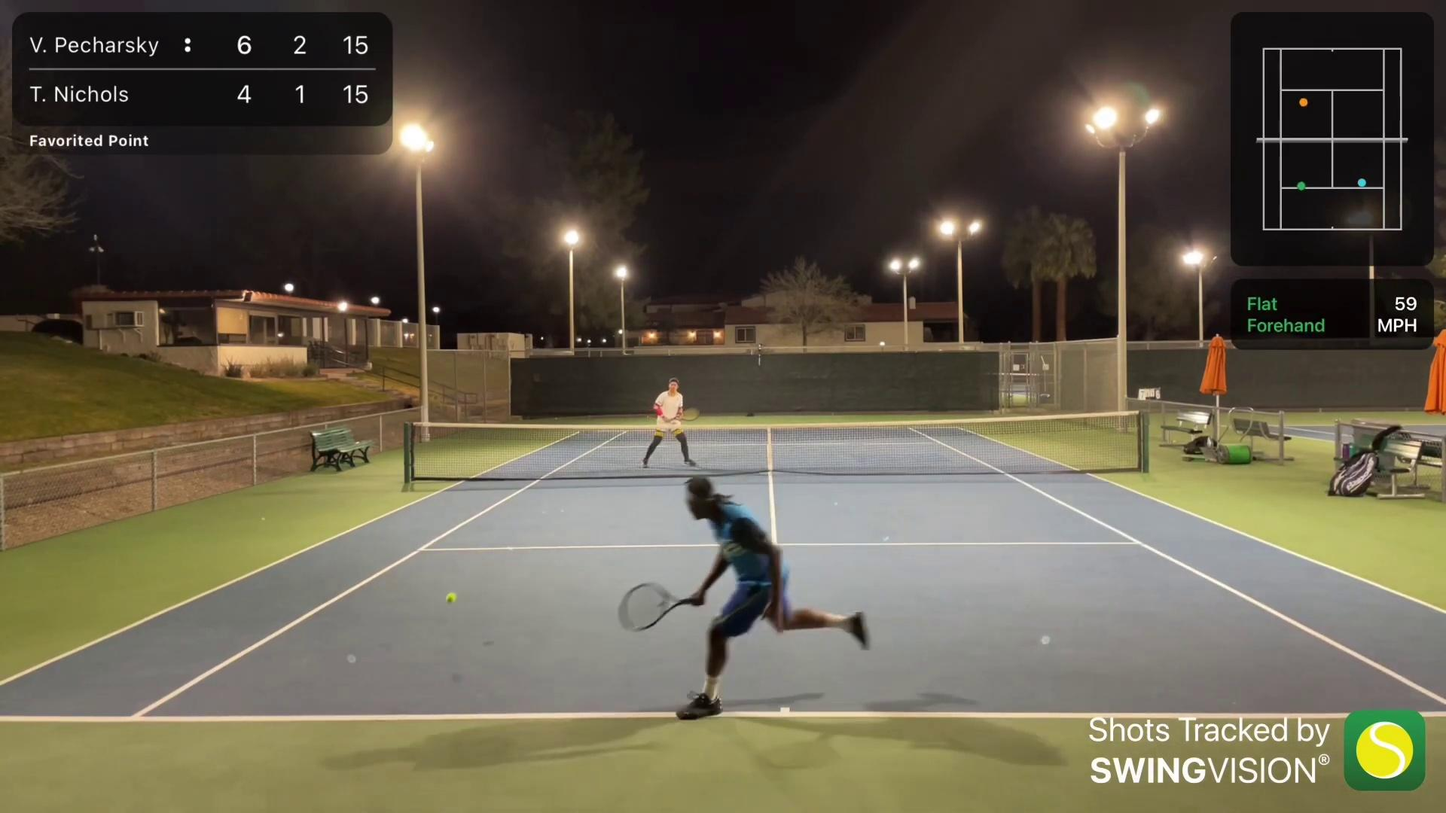ball: (446, 591, 455, 603)
